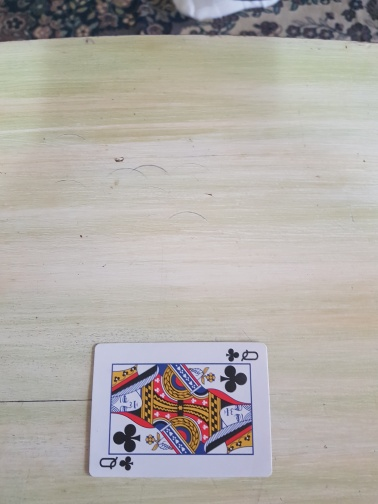queen: (87, 340, 274, 479)
